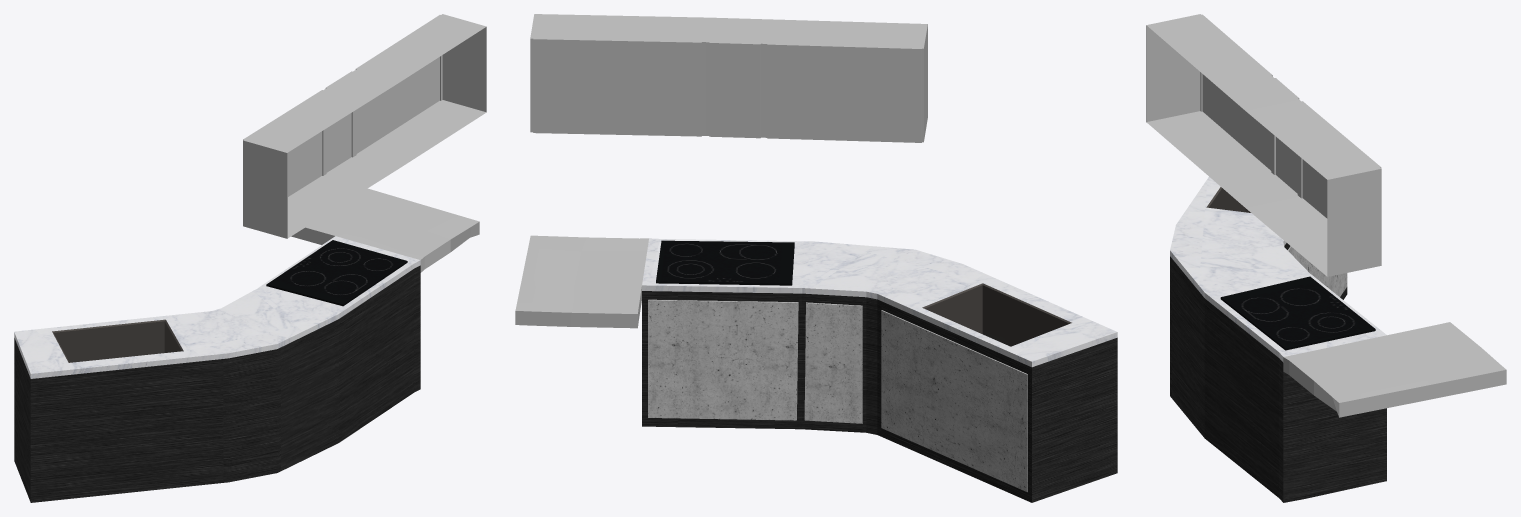
File: Kitchen.fbx
3 renders of one model, left to right at view 1: azimuth 30°, elevation 25°; view 2: azimuth 150°, elevation 25°; view 3: azimuth 270°, elevation 25°, orthographic. The views are drawn at different scales.
Parts seen in each view (by area): view 1: Kitchen bottom.001, Shelves, Kitchen plate, desk, ceran field, Sink; view 2: Shelves, Kitchen bottom, Kitchen bottom.001, Kitchen plate, desk, ceran field, Sink; view 3: Shelves, Kitchen bottom.001, desk, Kitchen plate, ceran field, Kitchen bottom, Sink.
Boxes of the visible parts, x1,y1,x2,y2 form: Kitchen bottom.001: (14,265,420,502); Shelves: (243,14,486,238); Kitchen plate: (14,236,420,378); desk: (291,188,479,272); ceran field: (266,240,407,306); Sink: (52,319,183,362); Shelves: (530,14,927,142); Kitchen bottom: (648,299,1027,492); Kitchen bottom.001: (642,291,1117,502); Kitchen plate: (642,238,1117,367); desk: (515,235,648,328); ceran field: (656,240,794,285); Sink: (922,283,1071,346); Shelves: (1146,14,1381,276); Kitchen bottom.001: (1170,243,1386,502); desk: (1283,322,1506,417); Kitchen plate: (1170,177,1386,362); ceran field: (1220,276,1375,350); Kitchen bottom: (1287,246,1347,296); Sink: (1206,187,1250,212).
Bounding box in the file's own units: 560 × 355 × 313.
